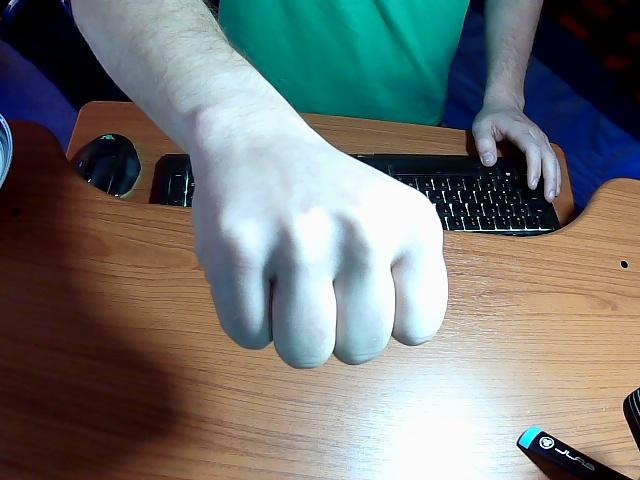rock: (190, 82, 448, 368)
